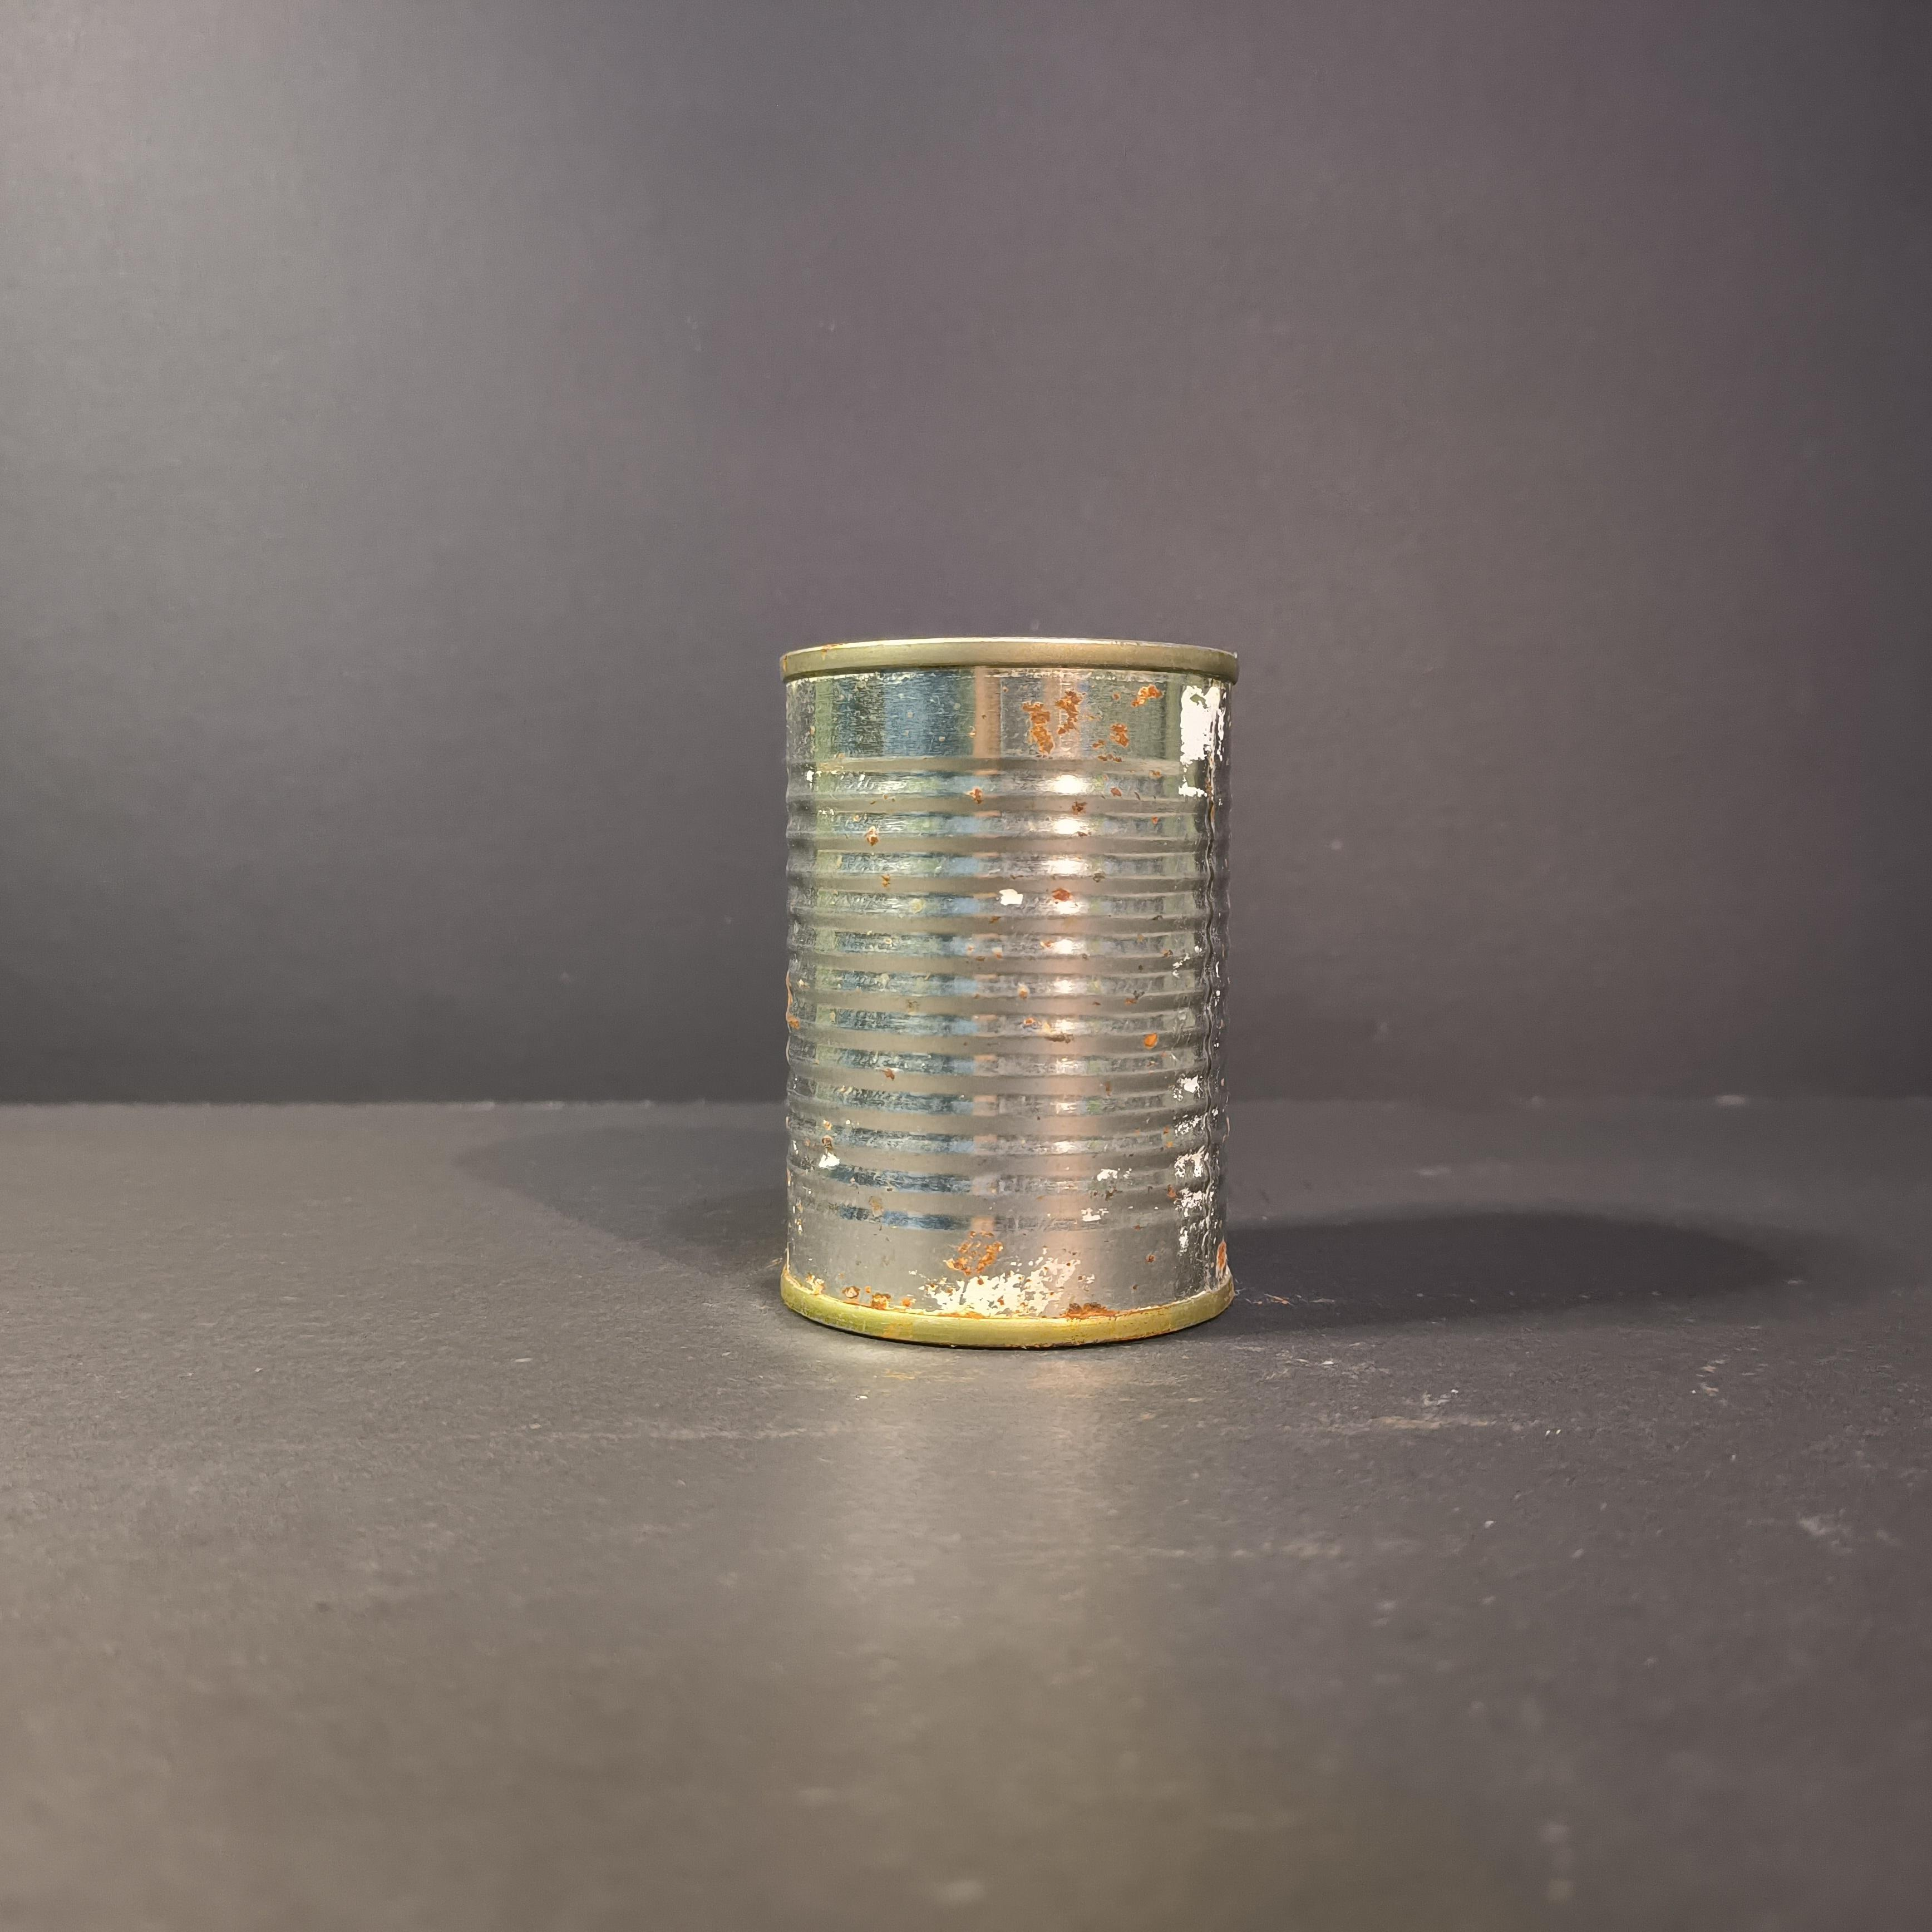Rusted: (763, 596, 1267, 1369)
